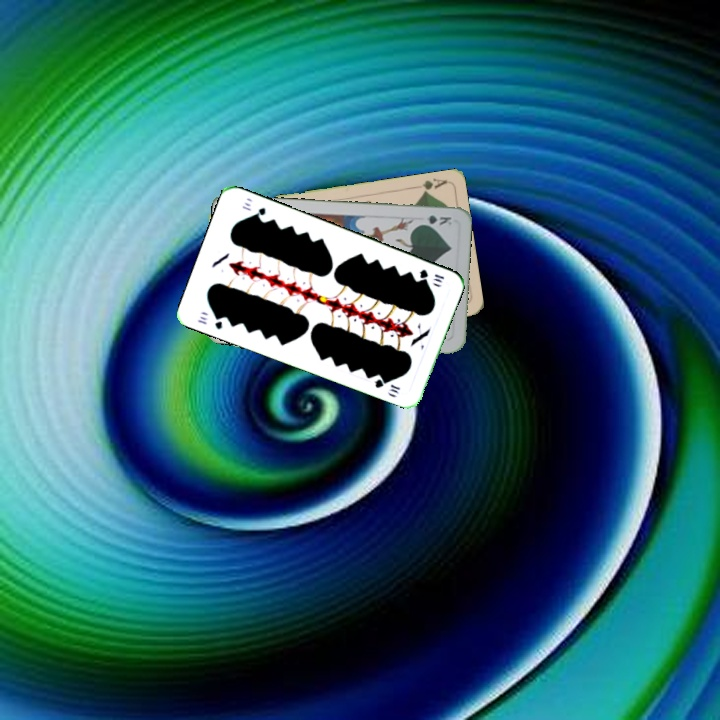G10: (193, 311, 225, 332), (416, 265, 447, 285)
GA: (409, 174, 449, 196)
GK: (415, 211, 454, 228)
